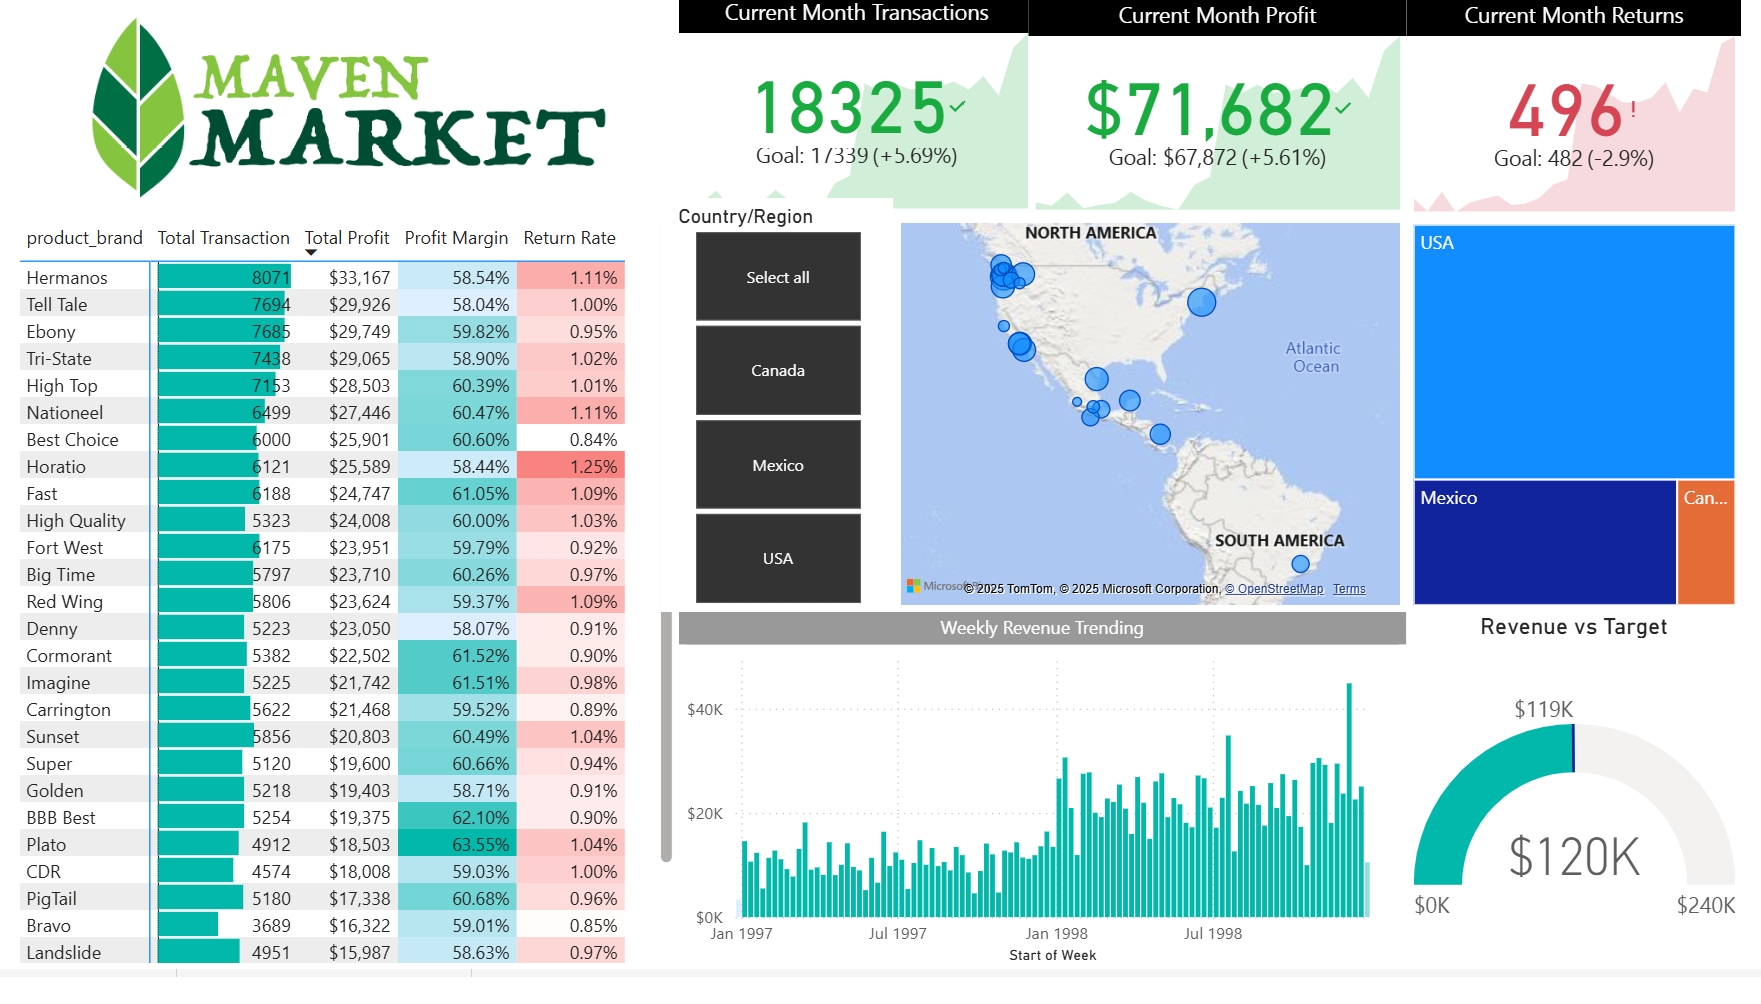

What the dashboard file says about the page in this screenshot:
{"tool":"powerbi","page":{"name":"Topline Performance","canvas":[1280,720],"ordinal":0},"visuals":[{"type":"image","box":[0,0,480,161.7],"z":0},{"type":"pivotTable","fields":{"Rows":["Products.product_brand"],"Values":["Measure Table.Total Transaction","Measure Table.Total Profit","Measure Table.Profit Margin","Measure Table.Return Rate"]},"box":[0,161.7,493.3,558.3],"z":1000},{"type":"kpi","title":"Current Month Transactions","fields":{"TrendLine":["Calendar.Start of Month"],"Indicator":["Measure Table.Total Transaction"],"Goal":["Measure Table.Last Month Transactions"]},"box":[480,1.7,283.3,160],"z":2000},{"type":"kpi","title":"Current Month Profit","fields":{"TrendLine":["Calendar.Start of Month"],"Indicator":["Measure Table.Total Profit"],"Goal":["Measure Table.Last Month Profit"]},"box":[756.7,1.7,275,160],"z":3000},{"type":"kpi","title":"Current Month Returns","fields":{"TrendLine":["Calendar.Start of Month"],"Indicator":["Measure Table.Total Returns"],"Goal":["Measure Table.Last Month Returns"]},"box":[1020,1.7,260,160],"z":4000},{"type":"map","fields":{"Category":["Stores.City"],"Size":["Measure Table.Total Transaction"]},"box":[640,161.7,391.7,293.3],"z":5000},{"type":"slicer","fields":{"Values":["Stores.Country/Region"]},"box":[493.3,161.7,128.3,293.3],"z":6000},{"type":"treemap","fields":{"Values":["Measure Table.Total Transaction"],"Group":["Stores.Country/Region Hierarchy.Country/Region","Stores.Country/Region Hierarchy.State or Province","Stores.Country/Region Hierarchy.City"]},"box":[1031.7,161.7,248.3,293.3],"z":7000},{"type":"columnChart","title":"Weekly Revenue Trending","fields":{"Category":["Calendar.Start of Week"],"Y":["Measure Table.Total Revenue"]},"box":[493.3,455,538.3,265],"z":8000},{"type":"gauge","title":"Revenue vs Target","fields":{"Y":["Measure Table.Total Revenue"],"TargetValue":["Measure Table.Revenue Target"]},"box":[1031.7,455,248.3,265],"z":9000}]}

Visuals, with their boxes in screenshot pixels (x1, y1, x2, y2), scaled from the page's 1280x720 canvas onto the 1761x1004 screenshot:
image: select_region(0, 0, 660, 225)
pivotTable - Products.product_brand x Measure Table.Total Transaction: select_region(0, 225, 679, 1003)
"Current Month Transactions" kpi: select_region(660, 2, 1050, 225)
"Current Month Profit" kpi: select_region(1041, 2, 1419, 225)
"Current Month Returns" kpi: select_region(1403, 2, 1760, 225)
map - Stores.City x Measure Table.Total Transaction: select_region(880, 225, 1419, 634)
slicer - Stores.Country/Region: select_region(679, 225, 855, 634)
treemap - Measure Table.Total Transaction x Stores.Country/Region Hierarchy.Country/Region: select_region(1419, 225, 1760, 634)
"Weekly Revenue Trending" columnChart: select_region(679, 634, 1419, 1003)
"Revenue vs Target" gauge: select_region(1419, 634, 1760, 1003)
